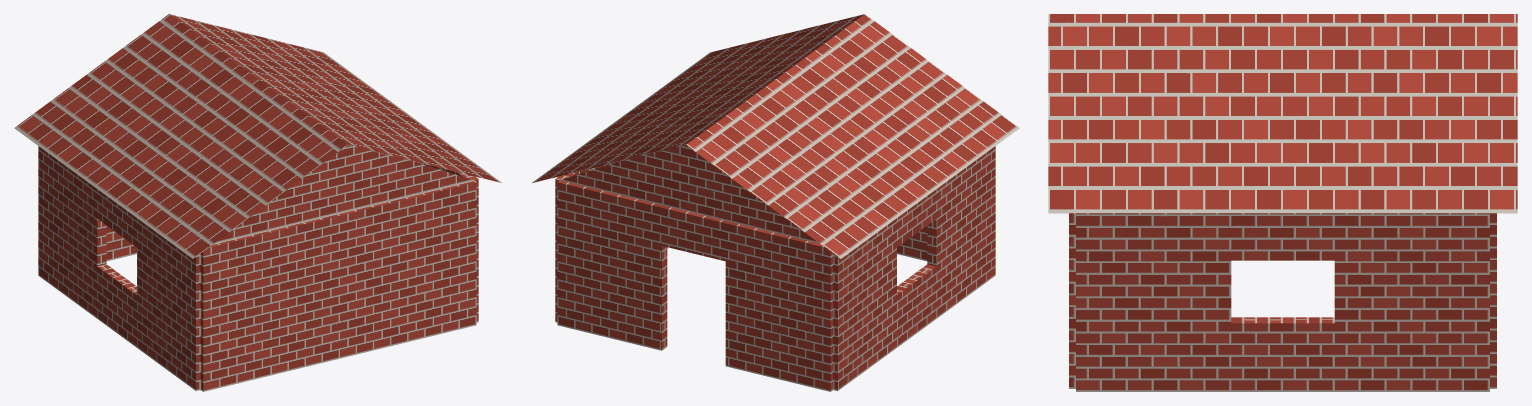
File: House.gltf
3 views of the same model, side by side, from view 1: azimuth 30°, elevation 25°; view 2: azimuth 150°, elevation 25°; view 3: azimuth 270°, elevation 25° (orthographic). The views are drawn at different scales.
Bounding box in the file's own units: 6.8 × 4.6 × 6.8.
1 material, 1 textured.
